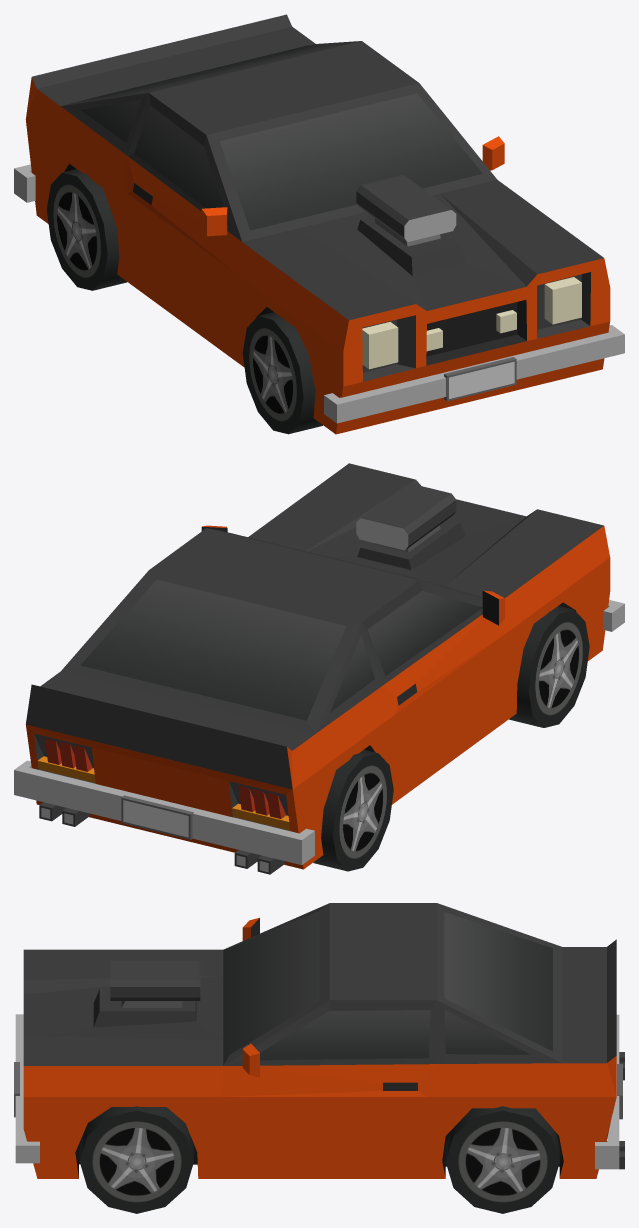
File: CarD.fbx
The picture shows the model from 3 angles, top to bottom: view 1: azimuth 30°, elevation 25°; view 2: azimuth 150°, elevation 25°; view 3: azimuth 270°, elevation 25°; orthographic projection. The views are drawn at different scales.
Visible parts, largest first — view 1: CarD, TireFR, TireBR; view 2: CarD, TireFR, TireBR; view 3: CarD, TireFL, TireBL.
Boxes of the visible parts, bbox=[...] form: CarD: bbox=[14, 14, 624, 434]; TireFR: bbox=[242, 312, 322, 434]; TireBR: bbox=[46, 169, 126, 290]; CarD: bbox=[14, 463, 624, 874]; TireFR: bbox=[509, 606, 589, 727]; TireBR: bbox=[313, 750, 393, 871]; CarD: bbox=[14, 903, 624, 1178]; TireFL: bbox=[79, 1106, 193, 1213]; TireBL: bbox=[445, 1106, 559, 1213].
Size of the model in its own units: 206 by 139 by 392.
